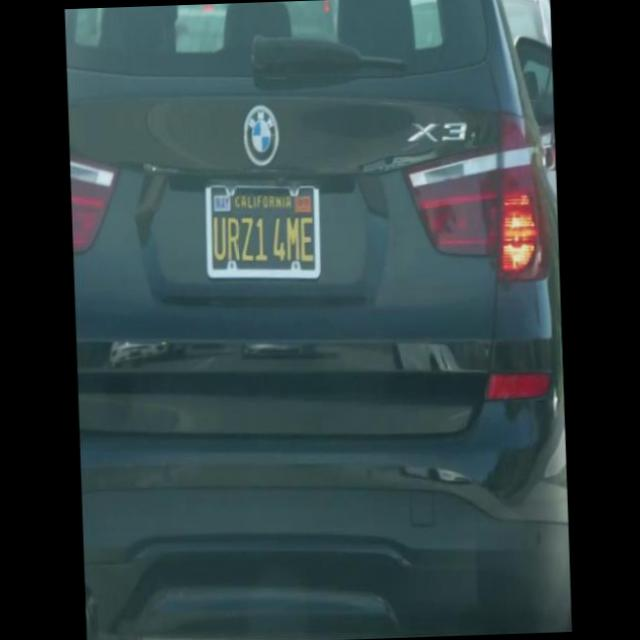LicensePlate: (203, 178, 322, 284)
